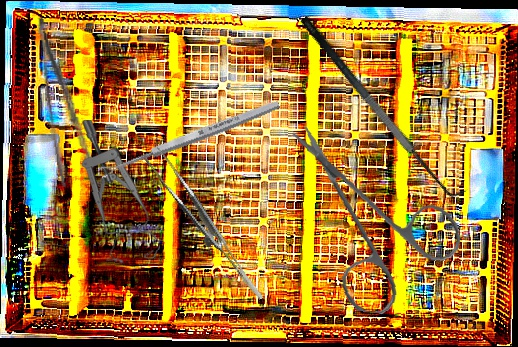Dressing Forceps: (34, 12, 96, 188)
Iris Scissors: (271, 125, 473, 323)
Spatula Surgical: (299, 2, 469, 209)
Speculum: (77, 120, 164, 264)
Surgical Spoon: (98, 98, 281, 179)
Tissue Forceps: (142, 137, 264, 316)
